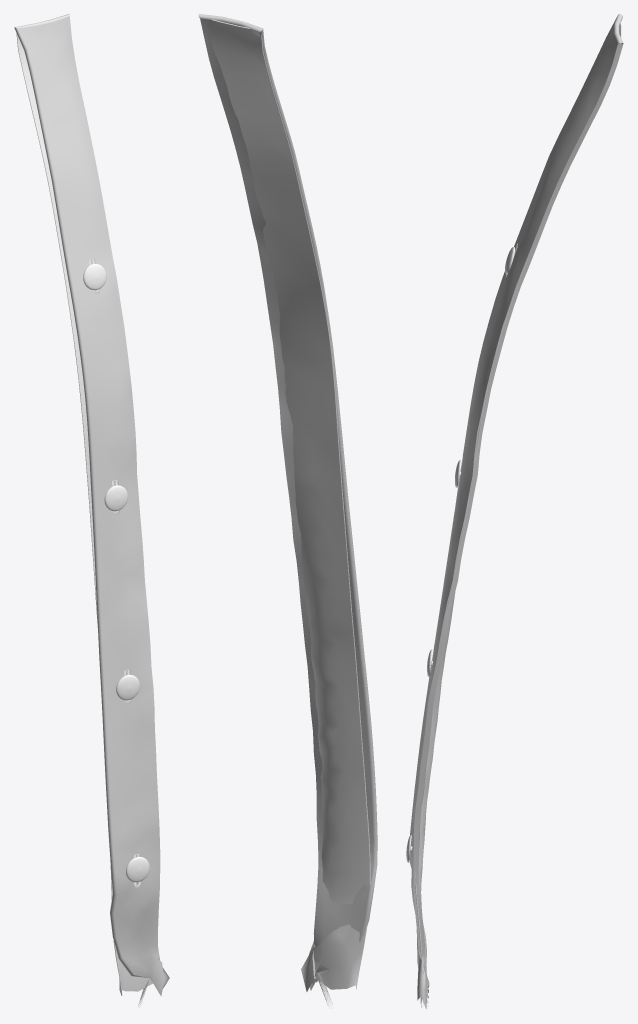
Rendered from Front_Placket.glb.
The picture shows the model from 3 angles, left to right: view 1: azimuth 30°, elevation 25°; view 2: azimuth 150°, elevation 25°; view 3: azimuth 270°, elevation 25°; orthographic projection. The views are drawn at different scales.
Parts seen in each view (by area): view 1: Wide_Front_placket_Node001.002, Wide_Front_placket_Node.001, button002.004, button004.006, button003.005, button004.007; view 2: Wide_Front_placket_Node.001, Wide_Front_placket_Node001.002; view 3: Wide_Front_placket_Node001.002, Wide_Front_placket_Node.001.
Boxes of the visible parts, box(x1,y1,x2,y2) form: Wide_Front_placket_Node001.002: box(14, 14, 169, 1005); Wide_Front_placket_Node.001: box(16, 33, 153, 995); button002.004: box(83, 263, 106, 290); button004.006: box(116, 674, 139, 700); button003.005: box(104, 485, 127, 511); button004.007: box(126, 856, 149, 882); Wide_Front_placket_Node.001: box(207, 19, 370, 989); Wide_Front_placket_Node001.002: box(198, 14, 377, 1004); Wide_Front_placket_Node001.002: box(409, 14, 623, 1008); Wide_Front_placket_Node.001: box(415, 21, 621, 974).
Size of the model in its own units: 3.46 by 48.47 by 9.75.
Materials: 8 (5 with a texture image).
